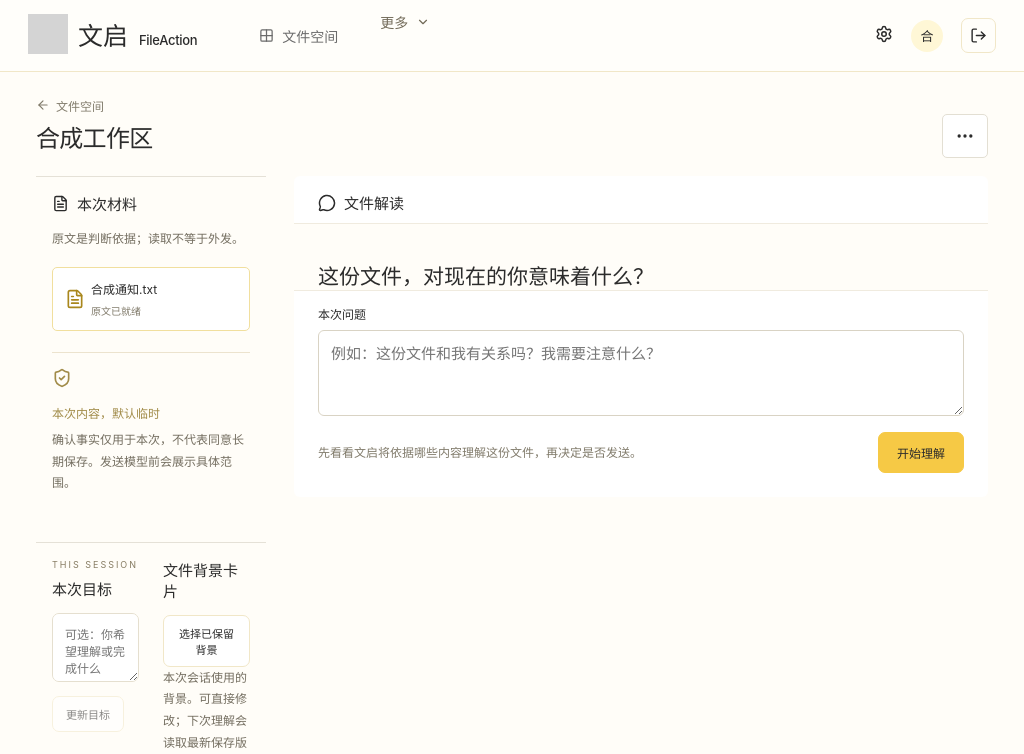
Test: 外发快照过期后拒绝生成，要求重新预览
This screenshot has width=1024, height=754.
Type "合成提问" into the text box labelled "本次问题". click: {"x": 641, "y": 373}
box: top-left (318, 330), bottom-right (964, 416)
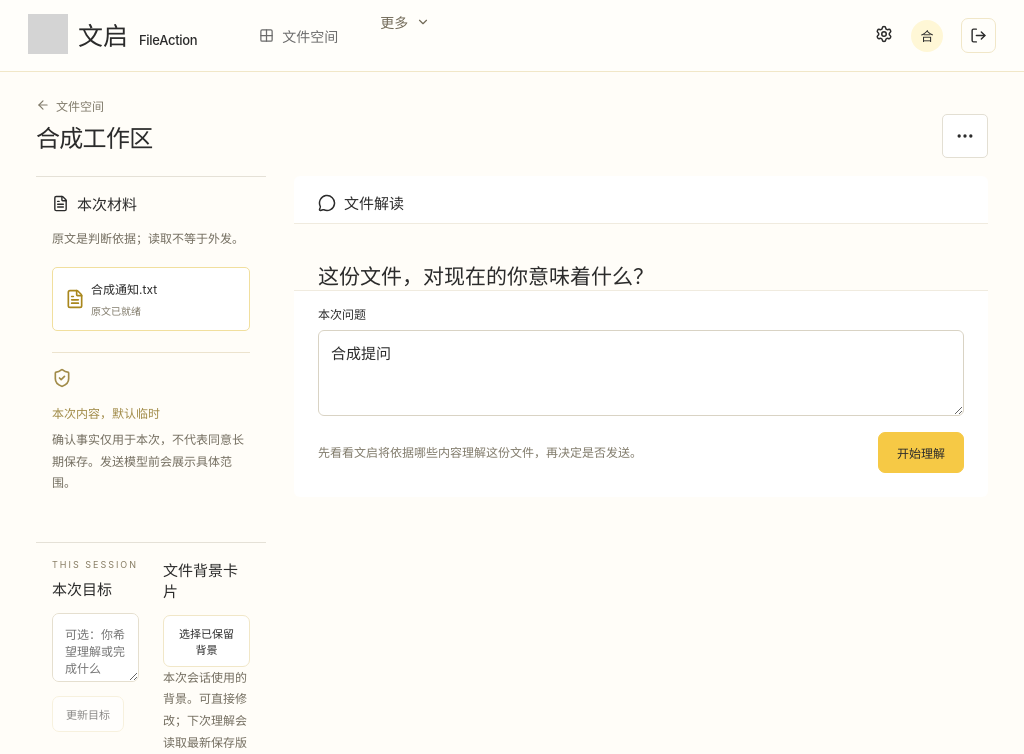
Click the button with aria-label "预览外发内容". click: {"x": 921, "y": 453}
box: top-left (878, 432), bottom-right (964, 473)
(page scrolled)
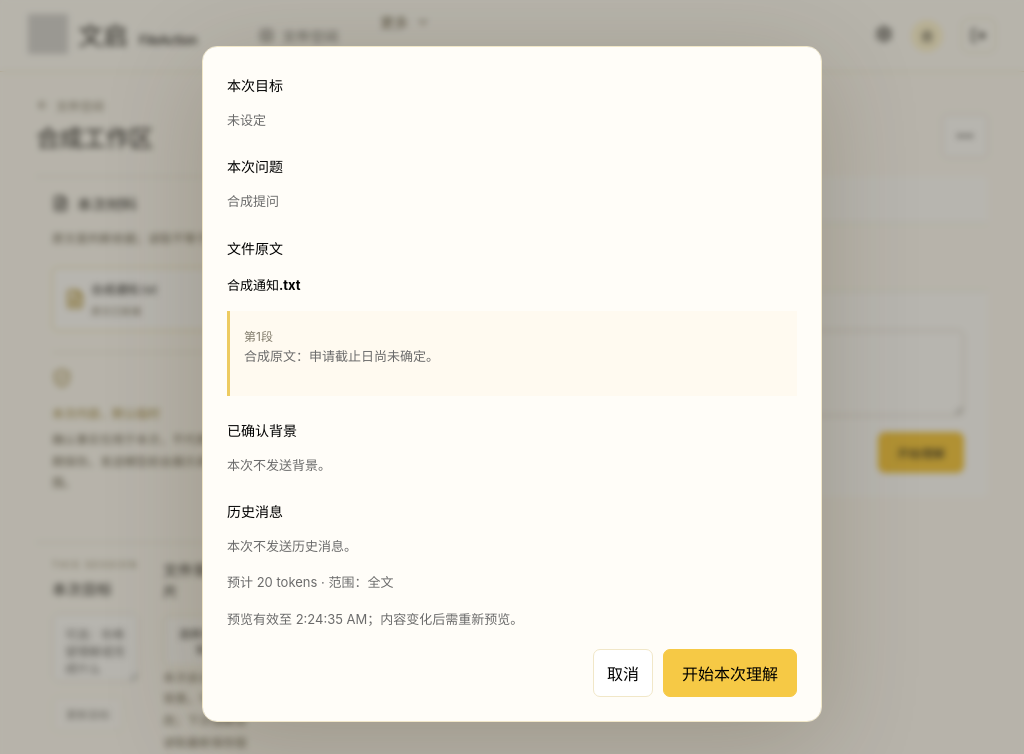
Click the button "开始本次理解". click: {"x": 730, "y": 673}
box: top-left (663, 649), bottom-right (797, 697)
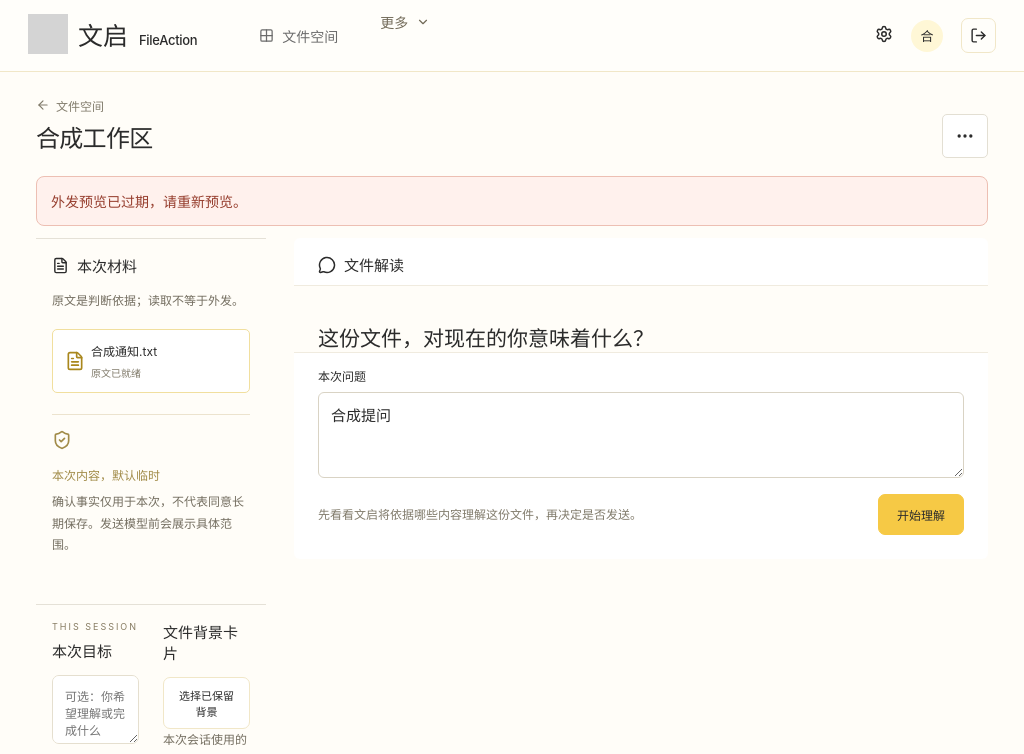
Expected: the message shows "外发预览已过期", top-left (51, 193), bottom-right (247, 210)
